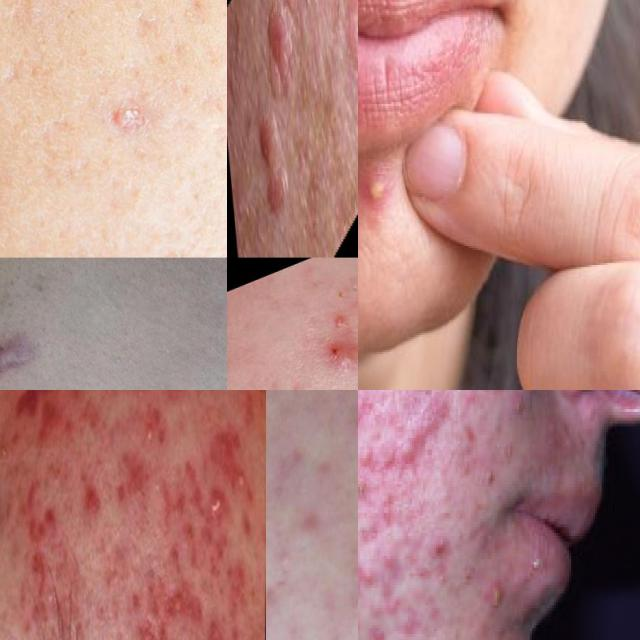acne_scars: (26, 542, 54, 599)
comedone: (47, 452, 67, 503), (278, 538, 296, 572)
folliculitis: (236, 453, 250, 494), (0, 426, 13, 464)
keloid: (0, 304, 60, 390)
milium: (132, 390, 149, 403)
papule: (311, 329, 358, 379), (304, 502, 325, 546)
pustule: (363, 157, 398, 237), (140, 408, 162, 450)
sebo-crystan-conglo: (206, 486, 226, 528), (152, 625, 177, 640)
syringoma: (247, 0, 316, 237), (297, 0, 343, 46)
